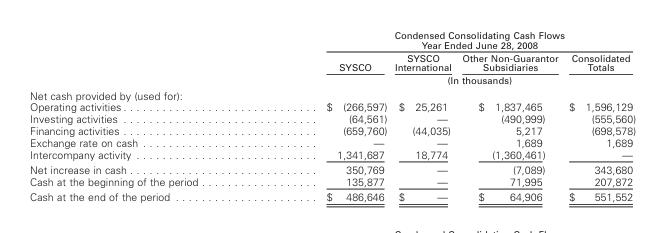table: (29, 29, 635, 202)
table column: (29, 29, 261, 202), (261, 29, 390, 202), (456, 29, 562, 202), (562, 29, 635, 202), (390, 29, 456, 202)
table column header: (29, 29, 635, 86)
table projected row header: (29, 86, 635, 100)
table row: (29, 50, 635, 73), (29, 29, 635, 50), (29, 86, 635, 100), (29, 147, 635, 161), (29, 174, 635, 188), (29, 188, 635, 202), (29, 73, 635, 86), (29, 161, 635, 174), (29, 100, 635, 112), (29, 112, 635, 124), (29, 135, 635, 147), (29, 124, 635, 135)
table spanning cell: (261, 29, 635, 50), (261, 73, 635, 86)
